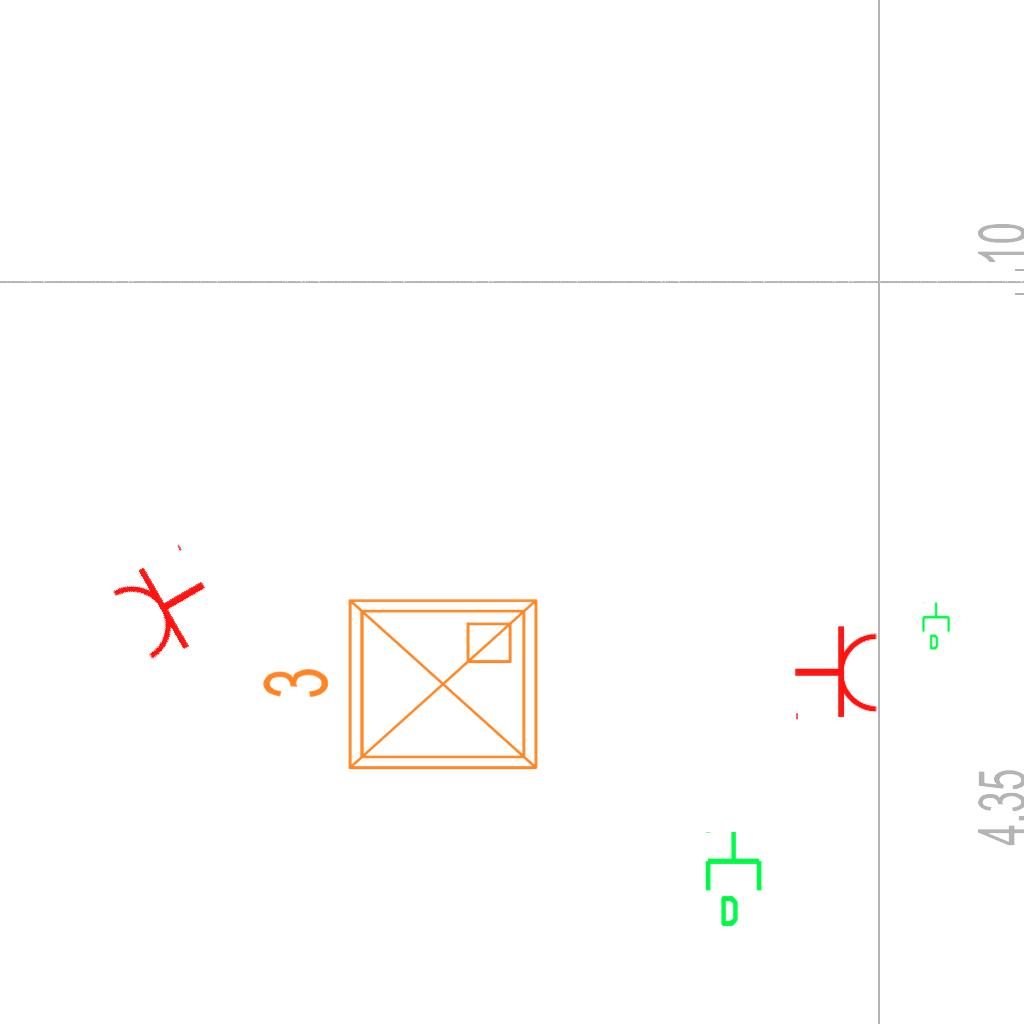Datenanschluss_einfach: (701, 829, 770, 929), (920, 601, 954, 651)
Einbaudownlights_LED_Konferenzraeume: (252, 584, 552, 792)
Schukosteckdose_einfach: (103, 538, 230, 670), (793, 624, 880, 724)
